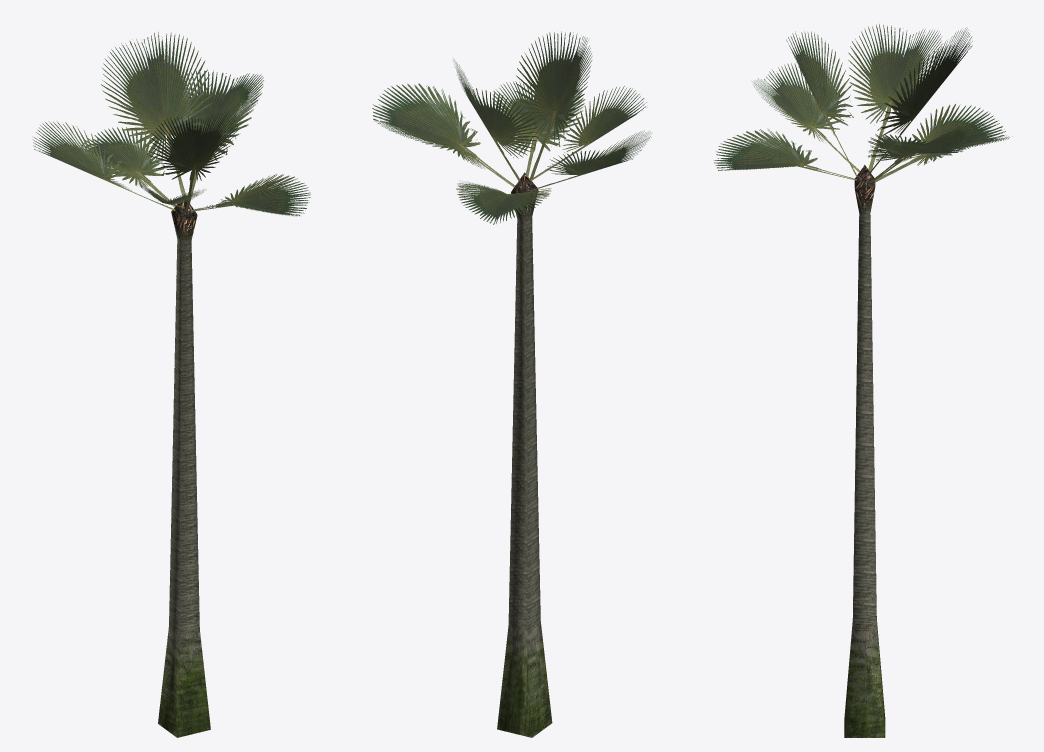
The model's file is ever_palmtree_lrg_l1.fbx.
The picture shows the model from 3 angles, left to right: view 1: azimuth 30°, elevation 25°; view 2: azimuth 150°, elevation 25°; view 3: azimuth 270°, elevation 25°; orthographic projection. The views are drawn at different scales.
Visible parts, largest first — view 1: mesh_node; view 2: mesh_node; view 3: mesh_node.
Part boxes in pixels (bbox=[...]): mesh_node: bbox=[32, 32, 310, 737]; mesh_node: bbox=[372, 31, 652, 737]; mesh_node: bbox=[714, 24, 1012, 737].
Size of the model in its own units: 10.64 by 26.05 by 11.16.
Materials: 4 (4 with a texture image).
